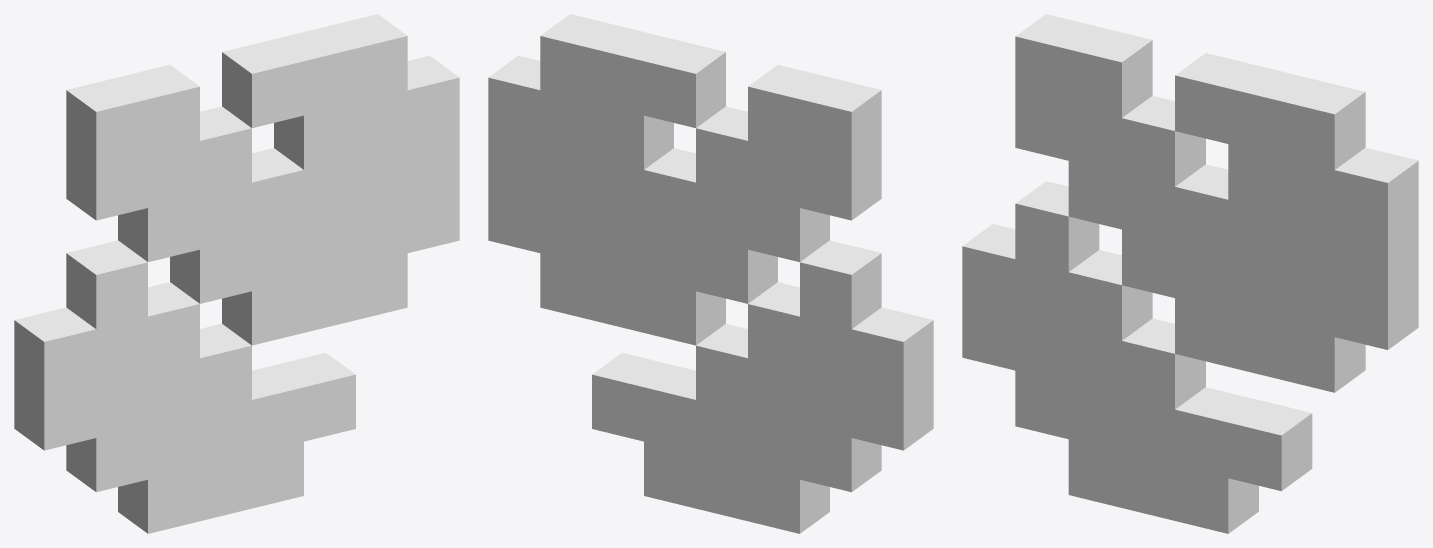
The model's file is Hauberk-White.vox.obj.
3 views of the same model, side by side, from view 1: azimuth 30°, elevation 25°; view 2: azimuth 150°, elevation 25°; view 3: azimuth 330°, elevation 25° (orthographic). The views are drawn at different scales.
Bounding box in the file's own units: 0.8 × 0.8 × 0.1.
Materials: 1 (1 with a texture image).
